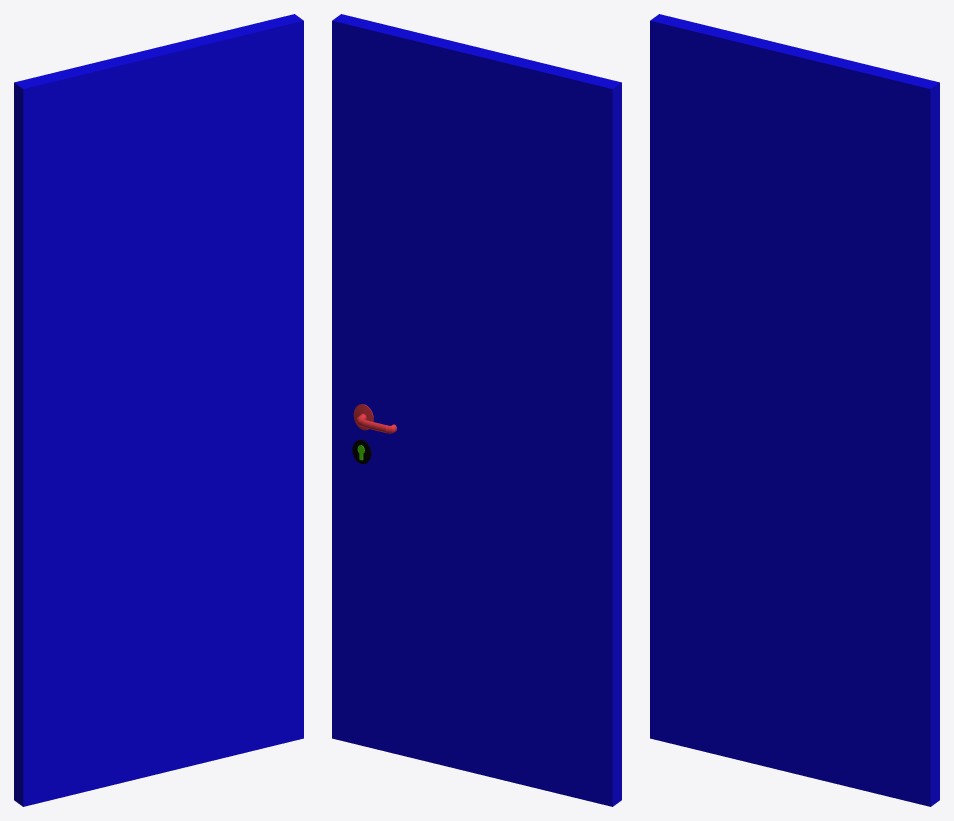
Rendered from door_2 1.fbx.
The picture shows the model from 3 angles, left to right: view 1: azimuth 30°, elevation 25°; view 2: azimuth 150°, elevation 25°; view 3: azimuth 330°, elevation 25°; orthographic projection.
Parts seen in each view (by area): view 1: Cube; view 2: Cube, Cube.001; view 3: Cube.
Part boxes in pixels (x1,y1,x2,y2): Cube: (14, 14, 303, 806); Cube: (332, 14, 621, 806); Cube.001: (353, 404, 396, 433); Cube: (650, 14, 939, 806).
Size of the model in its own units: 90 by 220 by 10.
